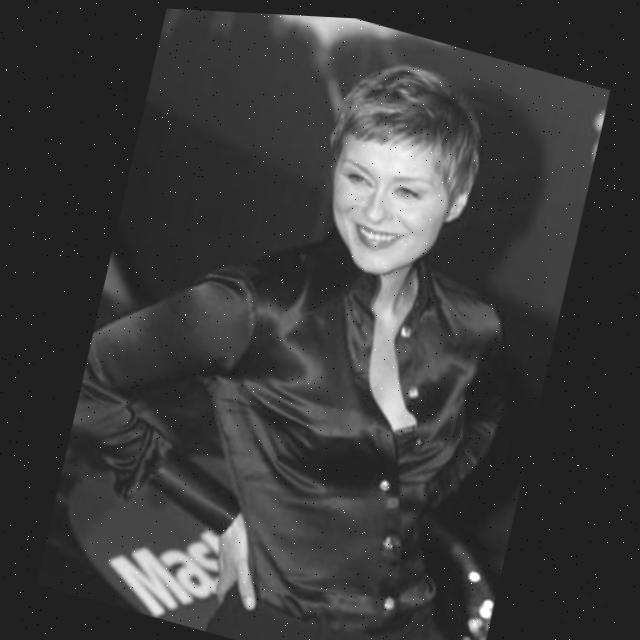face: (315, 119, 479, 294)
